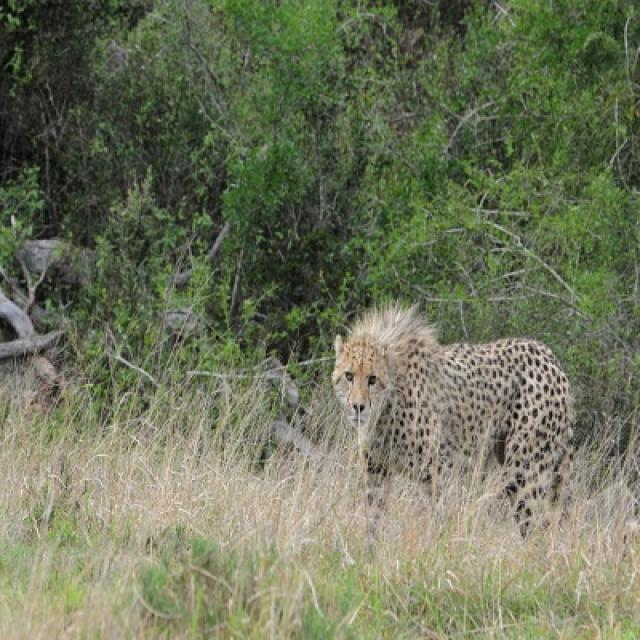Cheetah: (331, 315, 582, 537)
